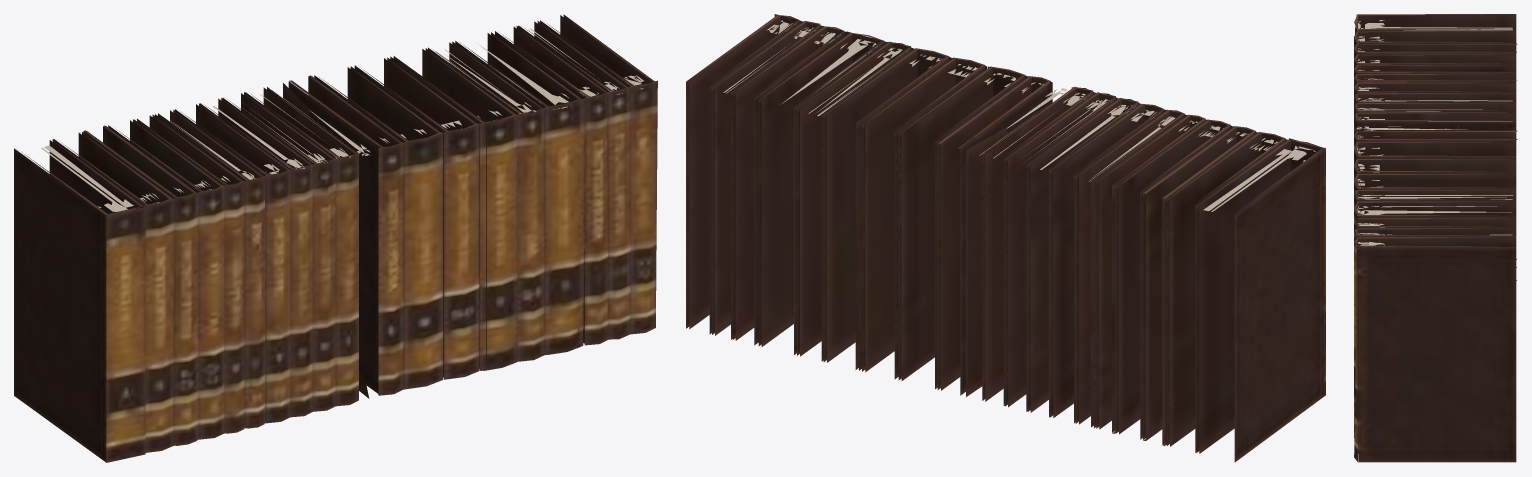
The model's file is book_encyclopedia_set_01.glb.
The picture shows the model from 3 angles, left to right: view 1: azimuth 30°, elevation 25°; view 2: azimuth 150°, elevation 25°; view 3: azimuth 270°, elevation 25°; orthographic projection. The views are drawn at different scales.
Parts seen in each view (by area): view 1: book_encyclopedia_set_01_book01, book_encyclopedia_set_01_book12, book_encyclopedia_set_01_book13, book_encyclopedia_set_01_book17, book_encyclopedia_set_01_book15, book_encyclopedia_set_01_book14, book_encyclopedia_set_01_book02, book_encyclopedia_set_01_book16, book_encyclopedia_set_01_book04, book_encyclopedia_set_01_book20, book_encyclopedia_set_01_book07, book_encyclopedia_set_01_book03 (+8 smaller); view 2: book_encyclopedia_set_01_book01, book_encyclopedia_set_01_book13, book_encyclopedia_set_01_book15, book_encyclopedia_set_01_book17, book_encyclopedia_set_01_book14, book_encyclopedia_set_01_book12, book_encyclopedia_set_01_book02, book_encyclopedia_set_01_book04, book_encyclopedia_set_01_book16, book_encyclopedia_set_01_book18, book_encyclopedia_set_01_book20, book_encyclopedia_set_01_book07 (+8 smaller); view 3: book_encyclopedia_set_01_book20, book_encyclopedia_set_01_book10, book_encyclopedia_set_01_book13, book_encyclopedia_set_01_book17, book_encyclopedia_set_01_book15, book_encyclopedia_set_01_book01, book_encyclopedia_set_01_book14, book_encyclopedia_set_01_book02, book_encyclopedia_set_01_book16, book_encyclopedia_set_01_book18, book_encyclopedia_set_01_book12, book_encyclopedia_set_01_book03 (+8 smaller).
Part boxes in pixels (box(x1,y1,x2,y2)): book_encyclopedia_set_01_book01: box(14, 139, 145, 462); book_encyclopedia_set_01_book12: box(288, 75, 403, 395); book_encyclopedia_set_01_book13: box(314, 66, 443, 389); book_encyclopedia_set_01_book17: box(455, 32, 586, 354); book_encyclopedia_set_01_book15: box(390, 48, 517, 370); book_encyclopedia_set_01_book14: box(354, 57, 479, 379); book_encyclopedia_set_01_book02: box(53, 132, 174, 452); book_encyclopedia_set_01_book16: box(428, 41, 544, 361); book_encyclopedia_set_01_book04: box(108, 119, 224, 439); book_encyclopedia_set_01_book20: box(540, 14, 657, 334); book_encyclopedia_set_01_book07: box(175, 103, 290, 423); book_encyclopedia_set_01_book03: box(83, 125, 198, 445); book_encyclopedia_set_01_book01: box(1196, 138, 1325, 462); book_encyclopedia_set_01_book13: box(898, 66, 1026, 389); book_encyclopedia_set_01_book15: box(823, 48, 951, 370); book_encyclopedia_set_01_book17: box(758, 31, 886, 354); book_encyclopedia_set_01_book14: box(862, 57, 986, 379); book_encyclopedia_set_01_book12: box(937, 76, 1052, 395); book_encyclopedia_set_01_book02: box(1167, 132, 1286, 452); book_encyclopedia_set_01_book04: box(1116, 119, 1231, 439); book_encyclopedia_set_01_book16: box(797, 41, 912, 361); book_encyclopedia_set_01_book18: box(732, 26, 846, 345); book_encyclopedia_set_01_book20: box(686, 14, 801, 334); book_encyclopedia_set_01_book07: box(1050, 103, 1166, 423); book_encyclopedia_set_01_book20: box(1354, 237, 1516, 462); book_encyclopedia_set_01_book10: box(1354, 112, 1516, 135); book_encyclopedia_set_01_book13: box(1354, 141, 1516, 165); book_encyclopedia_set_01_book17: box(1354, 201, 1516, 218); book_encyclopedia_set_01_book15: box(1354, 173, 1516, 194); book_encyclopedia_set_01_book01: box(1354, 14, 1516, 34); book_encyclopedia_set_01_book14: box(1354, 158, 1516, 180); book_encyclopedia_set_01_book02: box(1354, 30, 1516, 58); book_encyclopedia_set_01_book16: box(1354, 189, 1516, 222); book_encyclopedia_set_01_book18: box(1354, 218, 1516, 437); book_encyclopedia_set_01_book12: box(1354, 130, 1517, 148); book_encyclopedia_set_01_book03: box(1354, 43, 1517, 267).
Bounding box in the file's own units: 0.554 × 0.2374 × 0.1637.
2 materials, 2 textured.
